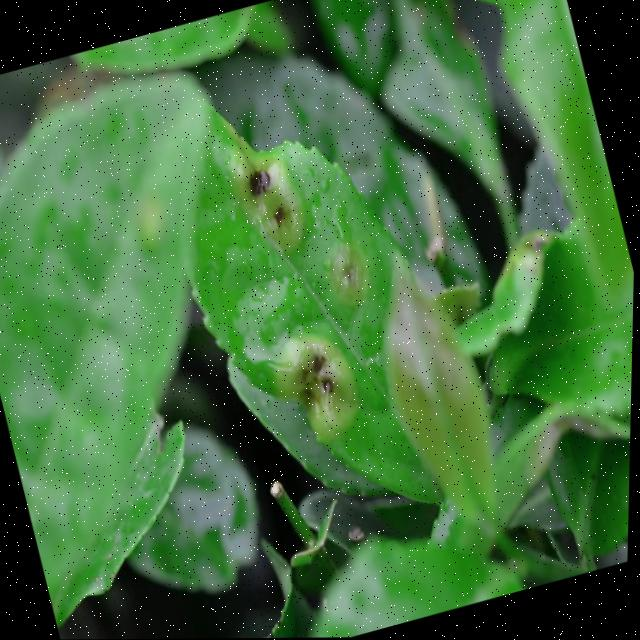Tea cake: (221, 128, 326, 275), (262, 315, 385, 439), (307, 217, 380, 309)
